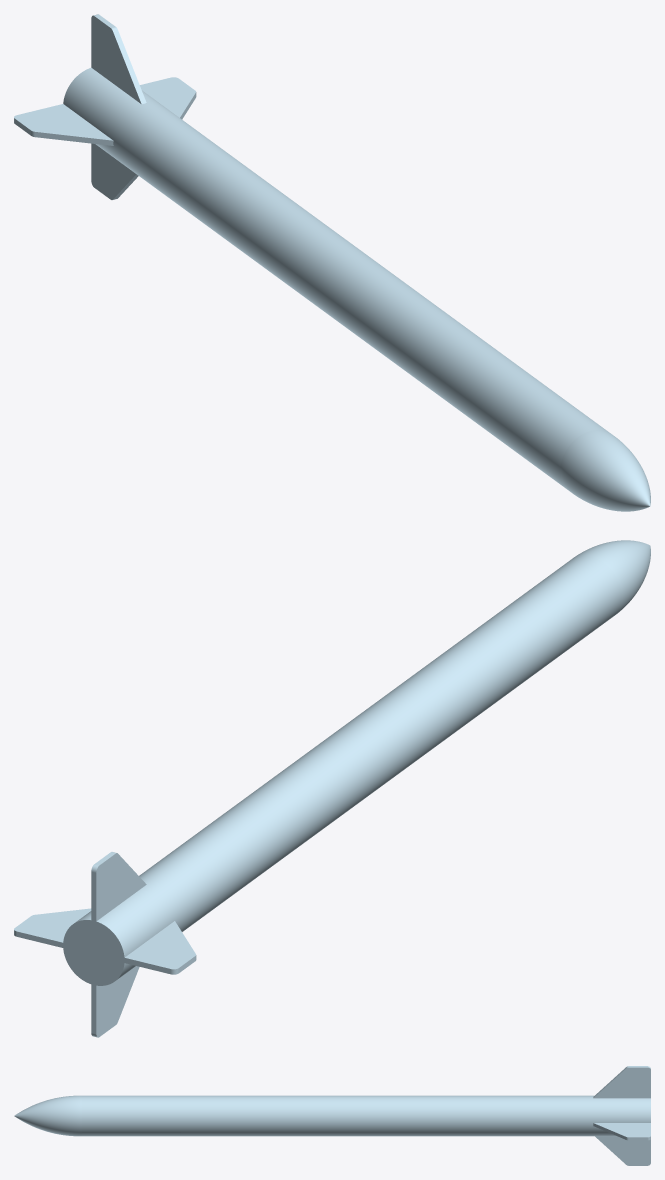
The model's file is Rocket.gltf.
3 renders of one model, top to bottom at view 1: azimuth 30°, elevation 25°; view 2: azimuth 150°, elevation 25°; view 3: azimuth 270°, elevation 25°, orthographic. The views are drawn at different scales.
Visible parts, largest first — view 1: Part 1; view 2: Part 1; view 3: Part 1.
Part boxes in pixels (x1=…): Part 1: x1=14, y1=14, x2=650, y2=511; Part 1: x1=14, y1=540, x2=650, y2=1037; Part 1: x1=14, y1=1066, x2=650, y2=1165.
Bounding box in the file's own units: 0.4064 × 0.4064 × 2.39.
